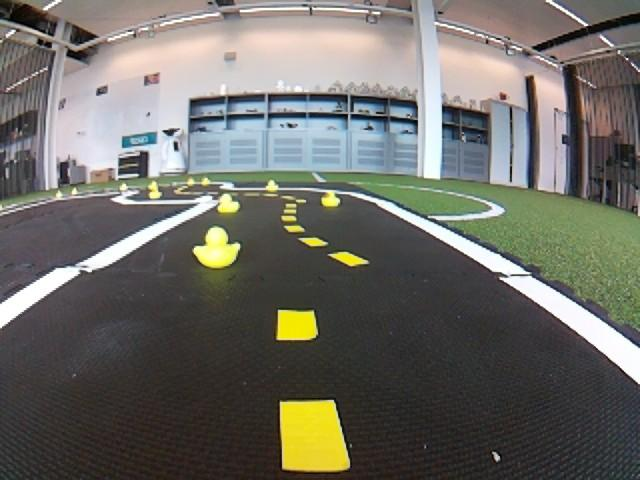Duckies: (193, 226, 239, 268), (217, 193, 239, 214), (321, 191, 339, 207), (265, 180, 279, 192), (147, 188, 162, 198), (148, 181, 159, 189), (55, 191, 63, 199), (200, 179, 210, 185), (187, 179, 196, 185), (121, 184, 128, 190), (71, 188, 77, 195)
